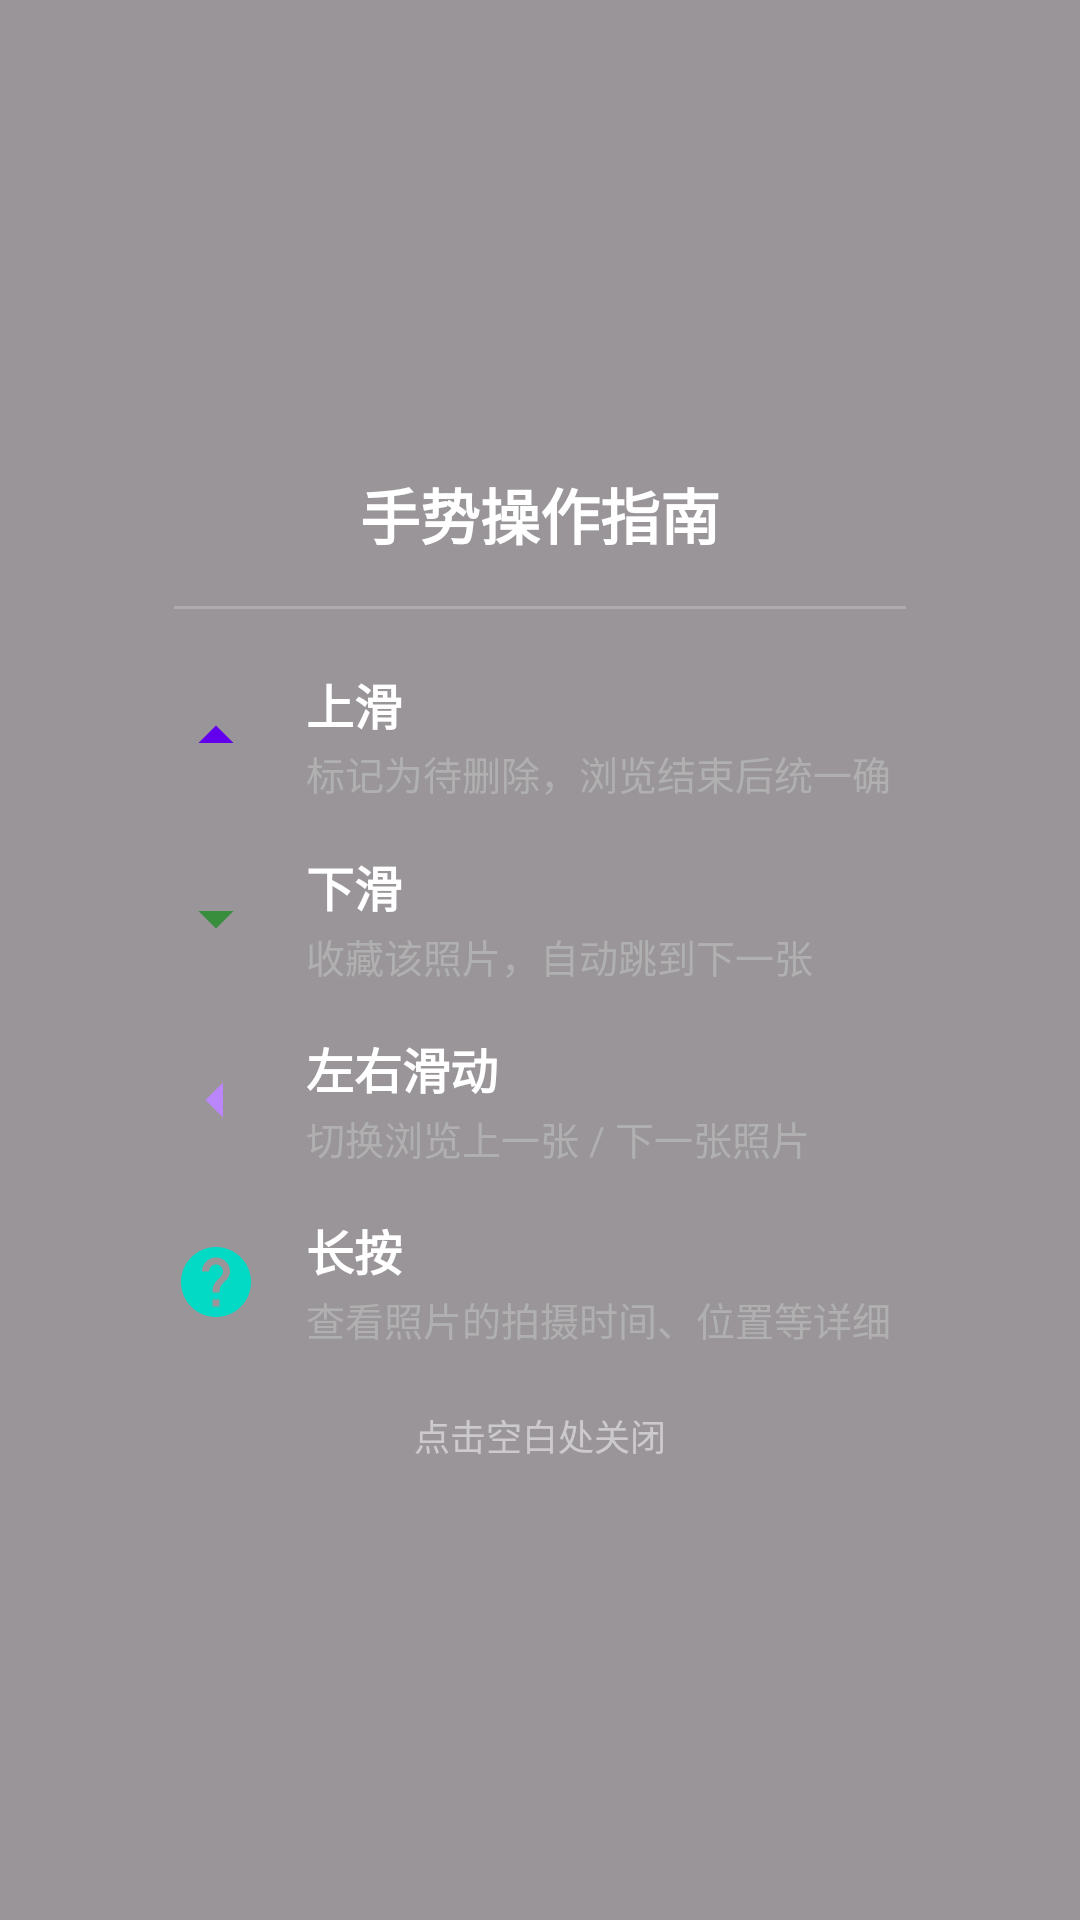

Icon click points for this 1080w x 1920h phone screenshot, format (x,y):
swipe down: (216,919)
swipe left: (214,1100)
swipe up: (216,734)
